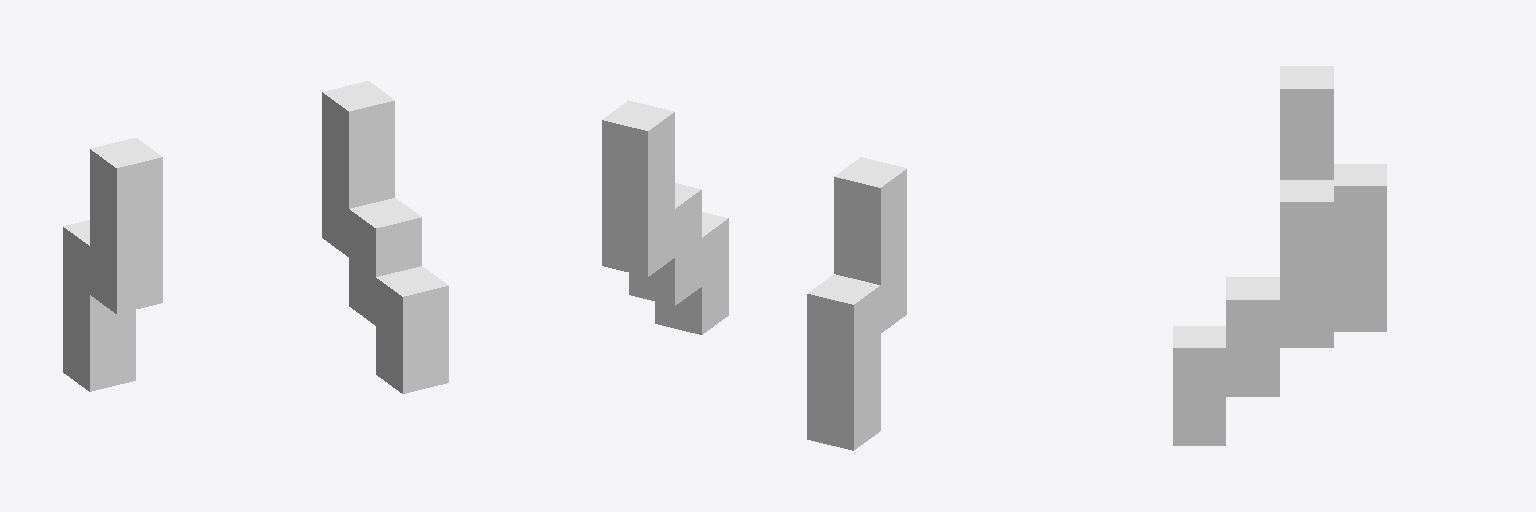
The model's file is arms_walk_1_002.obj.
3 views of the same model, side by side, from view 1: azimuth 30°, elevation 25°; view 2: azimuth 150°, elevation 25°; view 3: azimuth 270°, elevation 25° (orthographic).
Size of the model in its own units: 6 by 5 by 4.